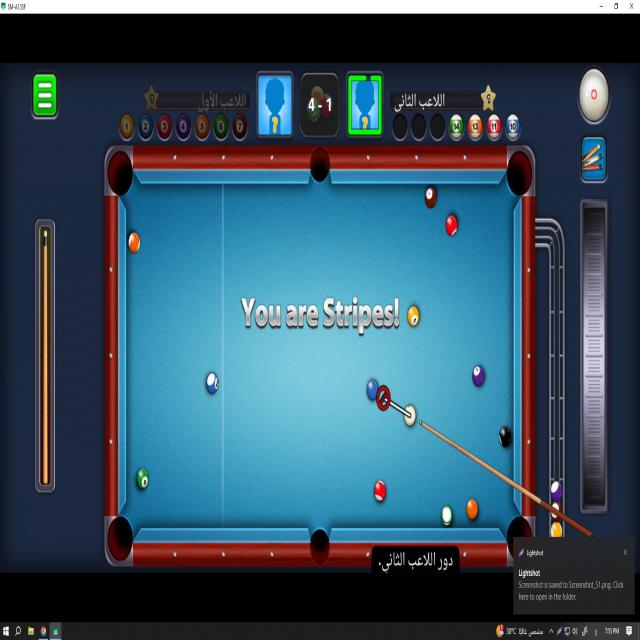object_ball: (374, 480, 385, 501), (425, 187, 436, 208), (408, 306, 419, 327), (367, 380, 378, 401), (207, 373, 218, 394), (446, 215, 457, 236), (441, 505, 452, 526), (137, 469, 148, 489), (473, 366, 484, 386), (129, 233, 140, 253), (466, 499, 477, 519), (500, 427, 511, 447)
white_cue_ball: (404, 405, 416, 426)
